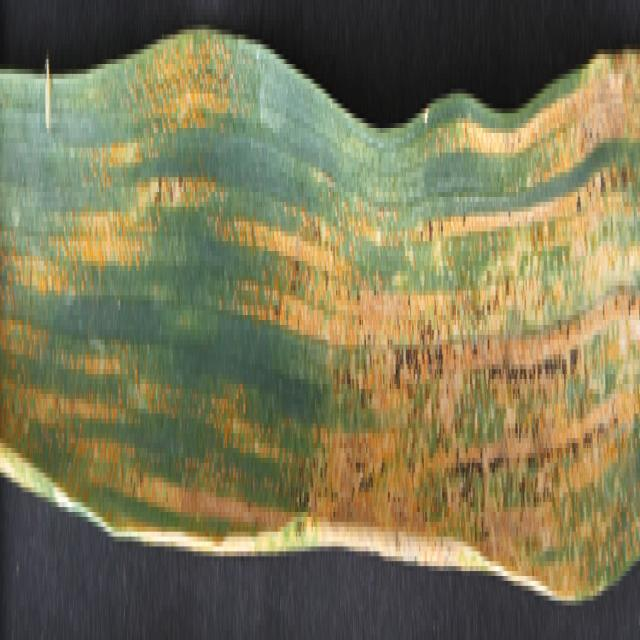leaf rust: (2, 44, 640, 571)
